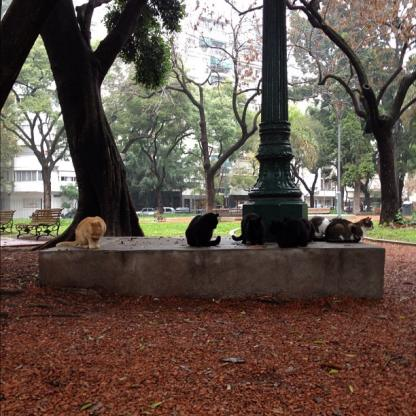Target: (302, 209, 376, 249), (46, 212, 113, 252), (178, 209, 228, 249)
